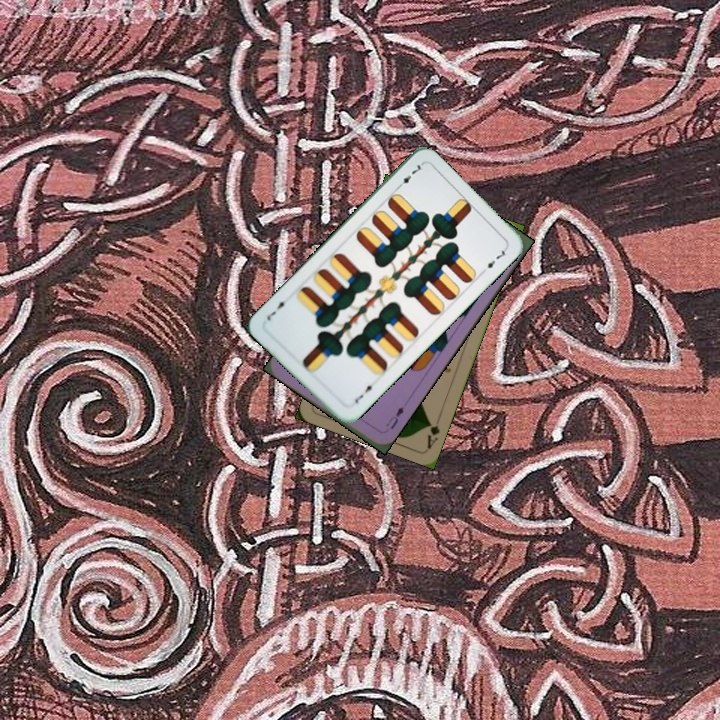E7: (393, 160, 426, 192), (351, 379, 378, 406)
EU: (382, 402, 406, 432)
GA: (423, 417, 442, 451)
